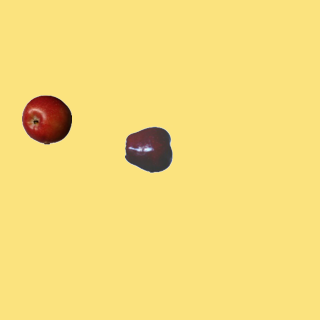Apple Braeburn: (21, 94, 71, 144)
Apple Red Delicious: (124, 124, 174, 174)
